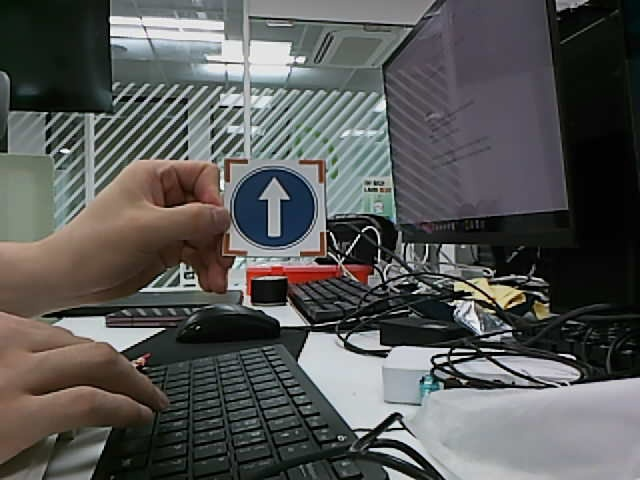go: (231, 167, 318, 251)
